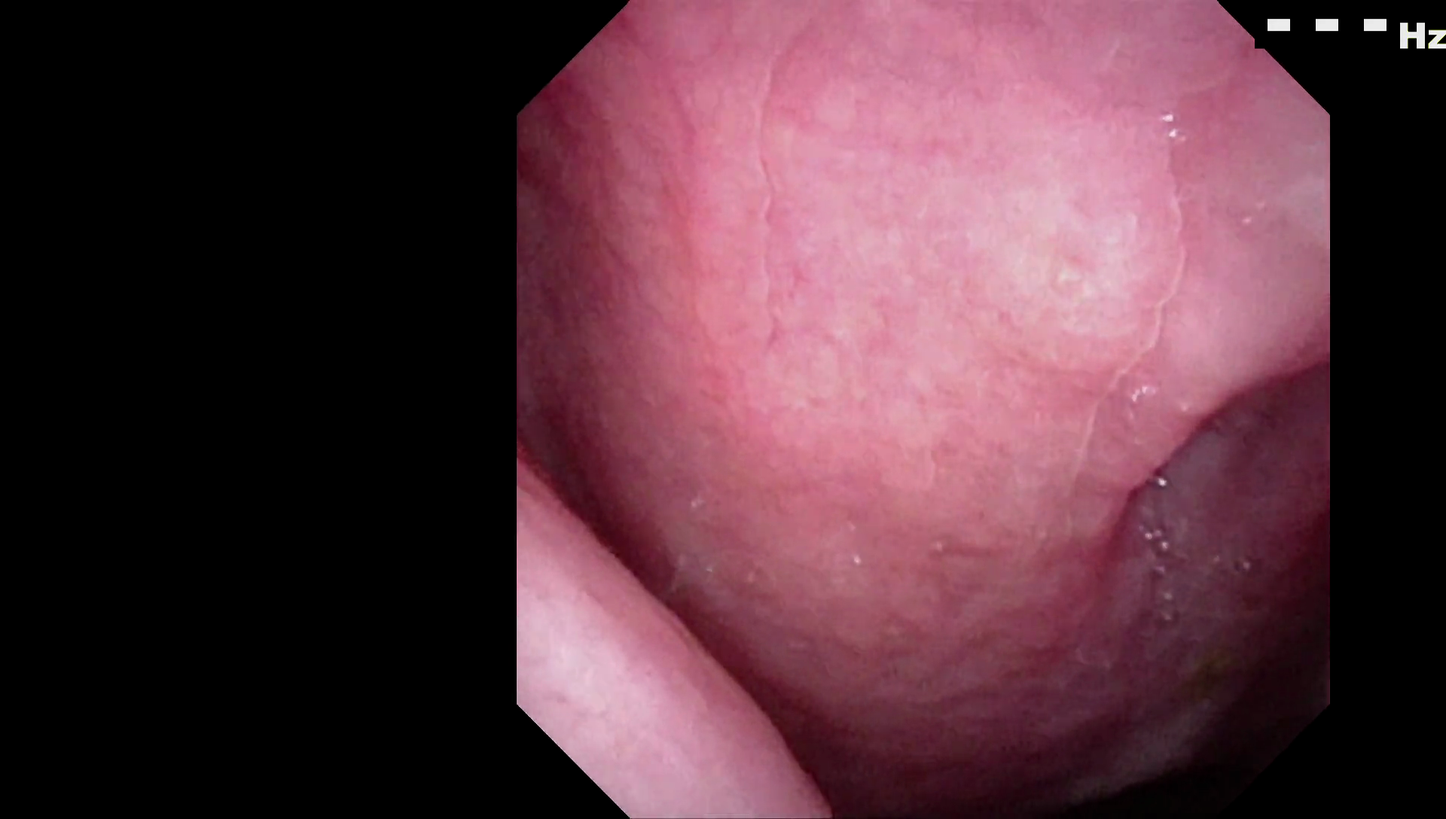close_wall: (699, 72, 1217, 440)
next: (1057, 611, 1303, 805)
